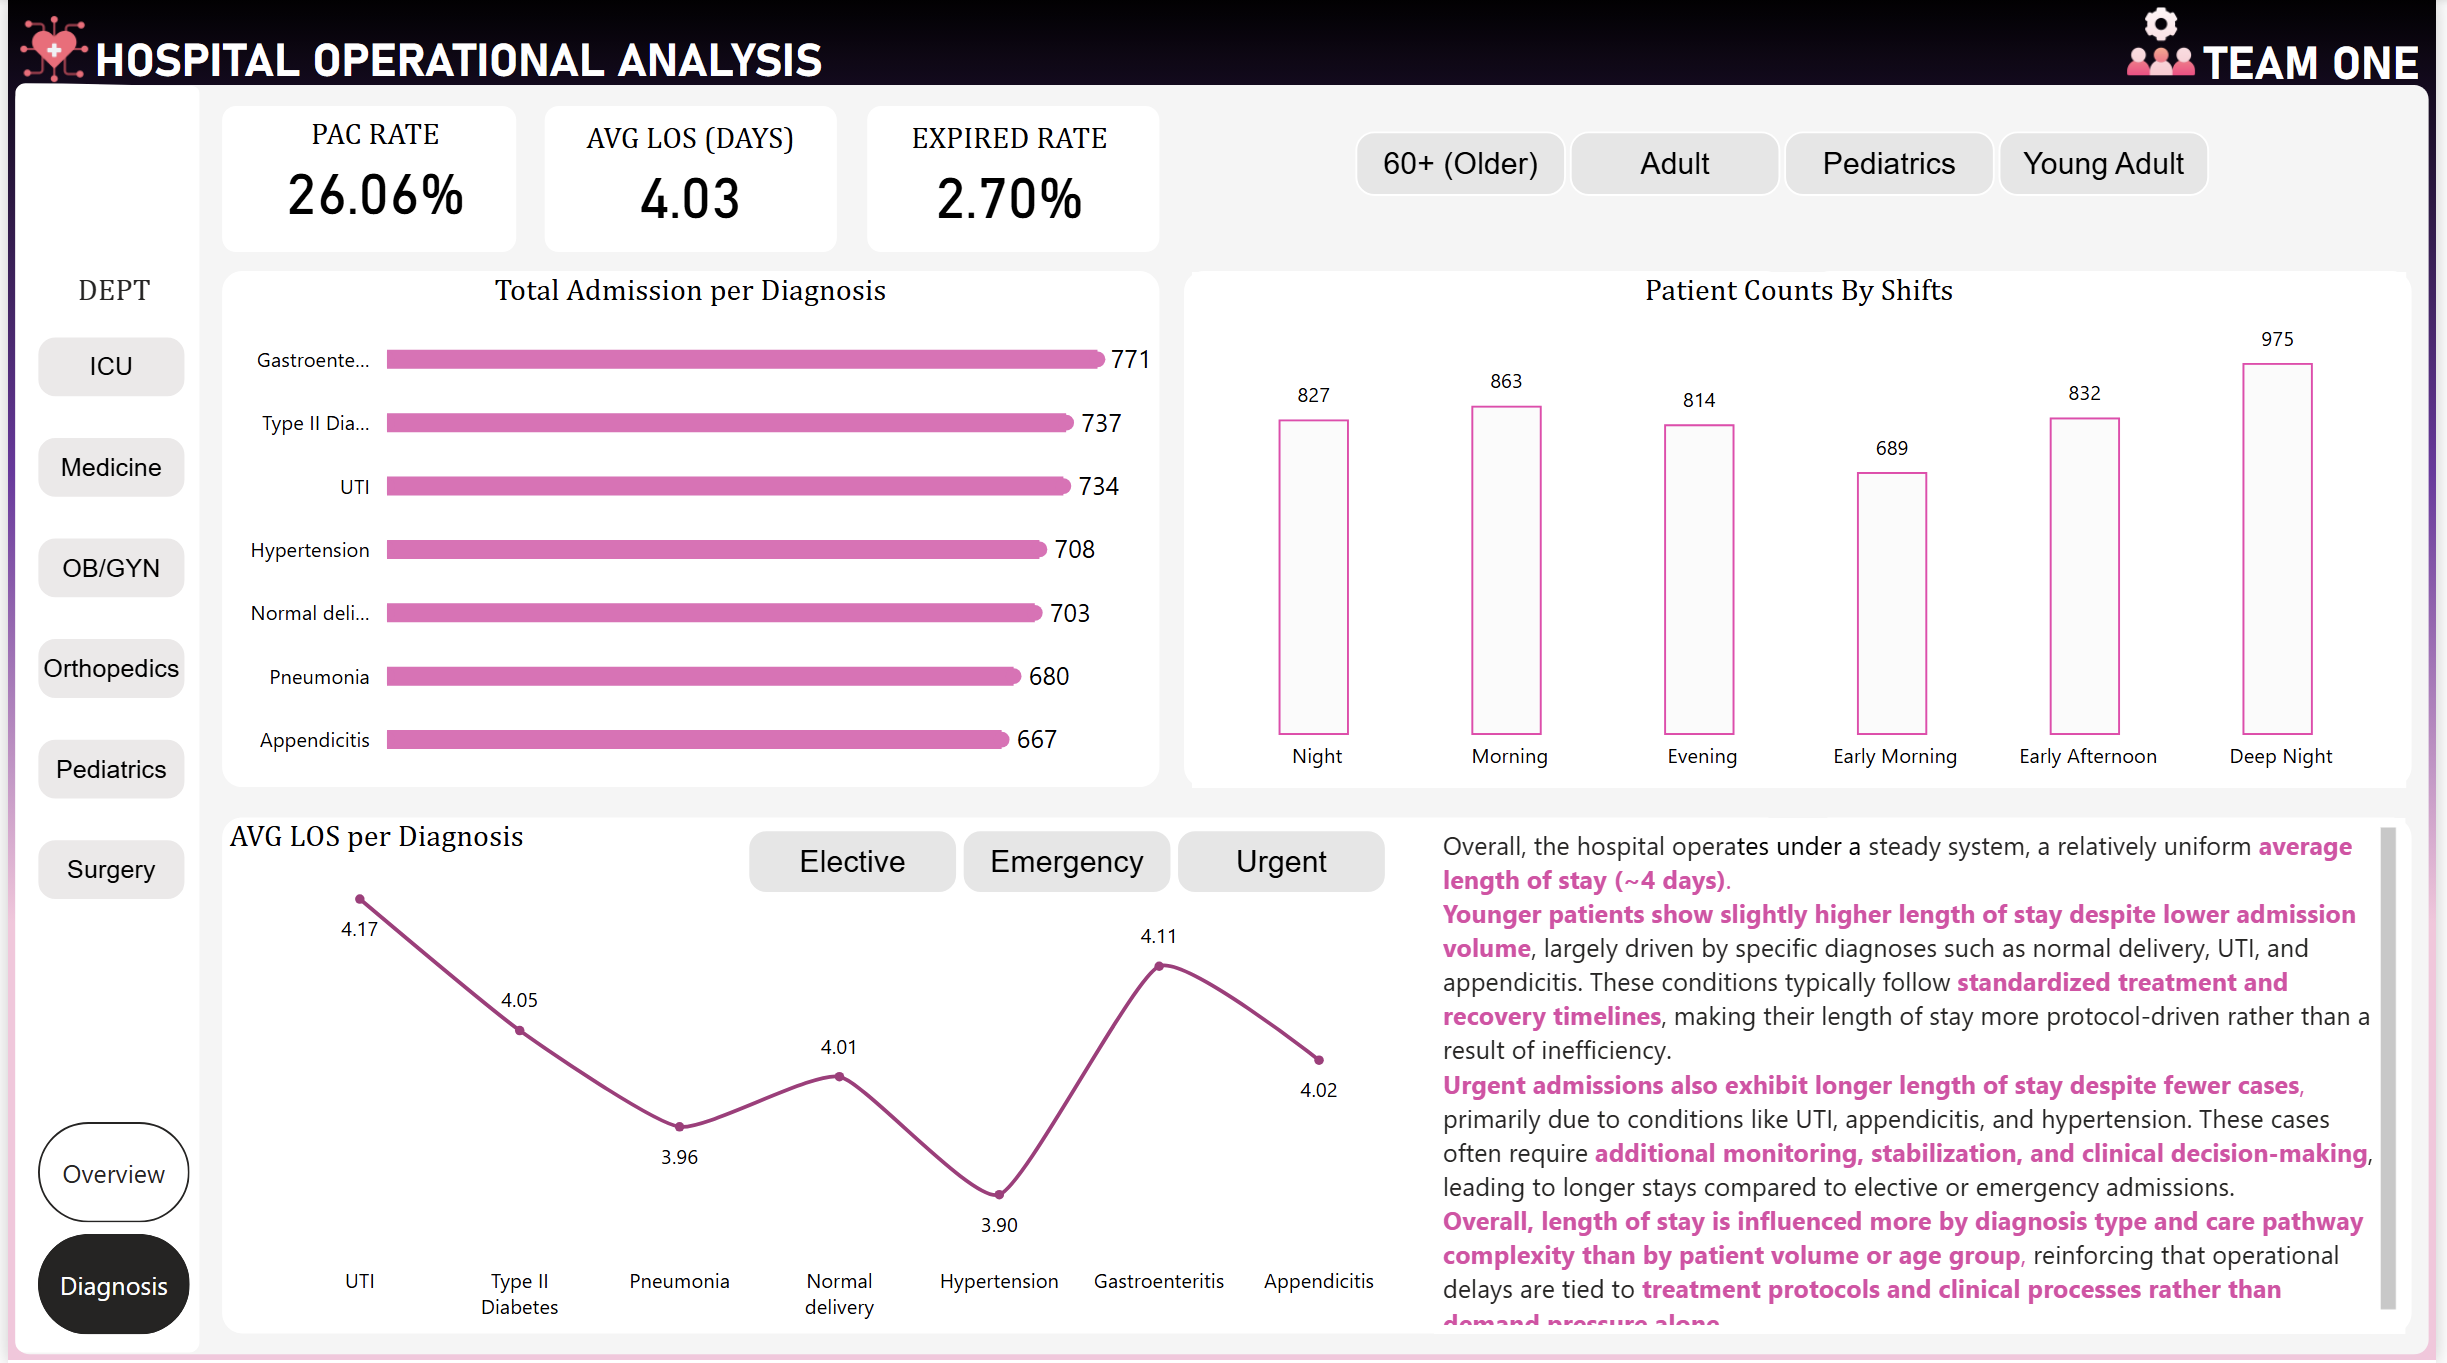

What the dashboard file says about the page in this screenshot:
{"tool":"powerbi","page":{"name":"Diagnosis","canvas":[1280,720],"ordinal":1},"visuals":[{"type":"card","title":"PAC RATE","fields":{"Values":["public fact_admissions.Post Acute Care Rate"]},"box":[129.8,62.2,128,64],"z":0},{"type":"card","title":"AVG LOS (DAYS)","fields":{"Values":["Avg(public fact_admissions.los_days)"]},"box":[288,64,144,64],"z":1000},{"type":"card","title":"EXPIRED RATE","fields":{"Values":["public fact_admissions.Expired Rate"]},"box":[464,64,128,64],"z":2000},{"type":"lineChart","title":"AVG LOS per Diagnosis","fields":{"Category":["public fact_diagnosis.diagnosis_name"],"Y":["Avg(public fact_diagnosis.los_days)"]},"box":[112,432,624,272],"z":3000},{"type":"barChart","title":"Total Admission per Diagnosis","fields":{"Category":["public fact_diagnosis.diagnosis_name"],"Y":["CountNonNull(public fact_diagnosis.admission_id)"]},"box":[112,144,496,272],"z":4000},{"type":"ChicletSlicer1448559807354","fields":{"Category":["public fact_admissions.age_group"]},"box":[704,64,480,48],"z":5000},{"type":"pageNavigator","box":[16,592,80,112],"z":6000},{"type":"columnChart","title":"Patient Counts By Shifts","fields":{"Category":["public fact_admissions.Time Band"],"Y":["CountNonNull(public fact_admissions.patient_id)"]},"box":[624,144,640,272],"z":7000},{"type":"ChicletSlicer1448559807354","title":"DEPT","fields":{"Category":["public fact_admissions.department"]},"box":[0,144,112,352],"z":8000},{"type":"ChicletSlicer1448559807354","fields":{"Category":["public fact_admissions.admission_type"]},"box":[384,432,352,48],"z":8001},{"type":"textbox","box":[752,432,512,272],"z":8002}]}

Visuals, with their boxes in screenshot pixels (x1, y1, x2, y2), scaled from the page's 1280x720 canvas onto the 2447x1363 screenshot:
"PAC RATE" card: x1=248, y1=118, x2=493, y2=239
"AVG LOS (DAYS)" card: x1=551, y1=121, x2=826, y2=242
"EXPIRED RATE" card: x1=887, y1=121, x2=1132, y2=242
"AVG LOS per Diagnosis" lineChart: x1=214, y1=818, x2=1407, y2=1333
"Total Admission per Diagnosis" barChart: x1=214, y1=273, x2=1162, y2=788
ChicletSlicer1448559807354 - public fact_admissions.age_group: x1=1346, y1=121, x2=2263, y2=212
pageNavigator: x1=31, y1=1121, x2=184, y2=1333
"Patient Counts By Shifts" columnChart: x1=1193, y1=273, x2=2416, y2=788
"DEPT" ChicletSlicer1448559807354: x1=0, y1=273, x2=214, y2=939
ChicletSlicer1448559807354 - public fact_admissions.admission_type: x1=734, y1=818, x2=1407, y2=909
textbox: x1=1438, y1=818, x2=2416, y2=1333
